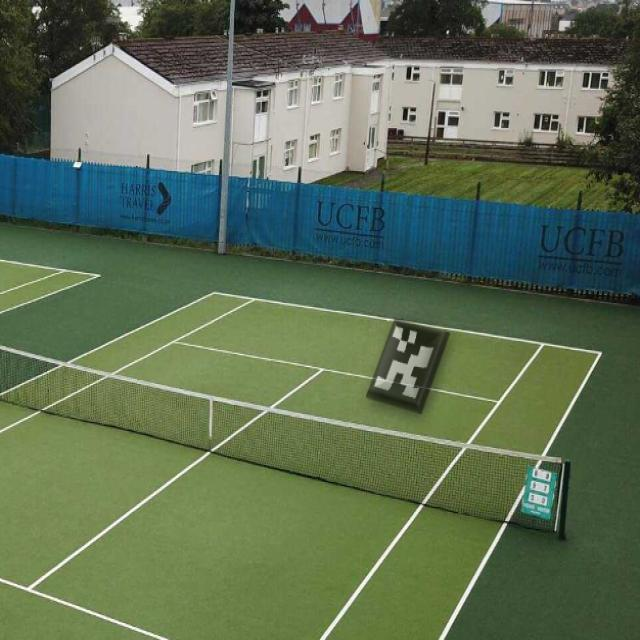marker: (358, 311, 458, 418)
